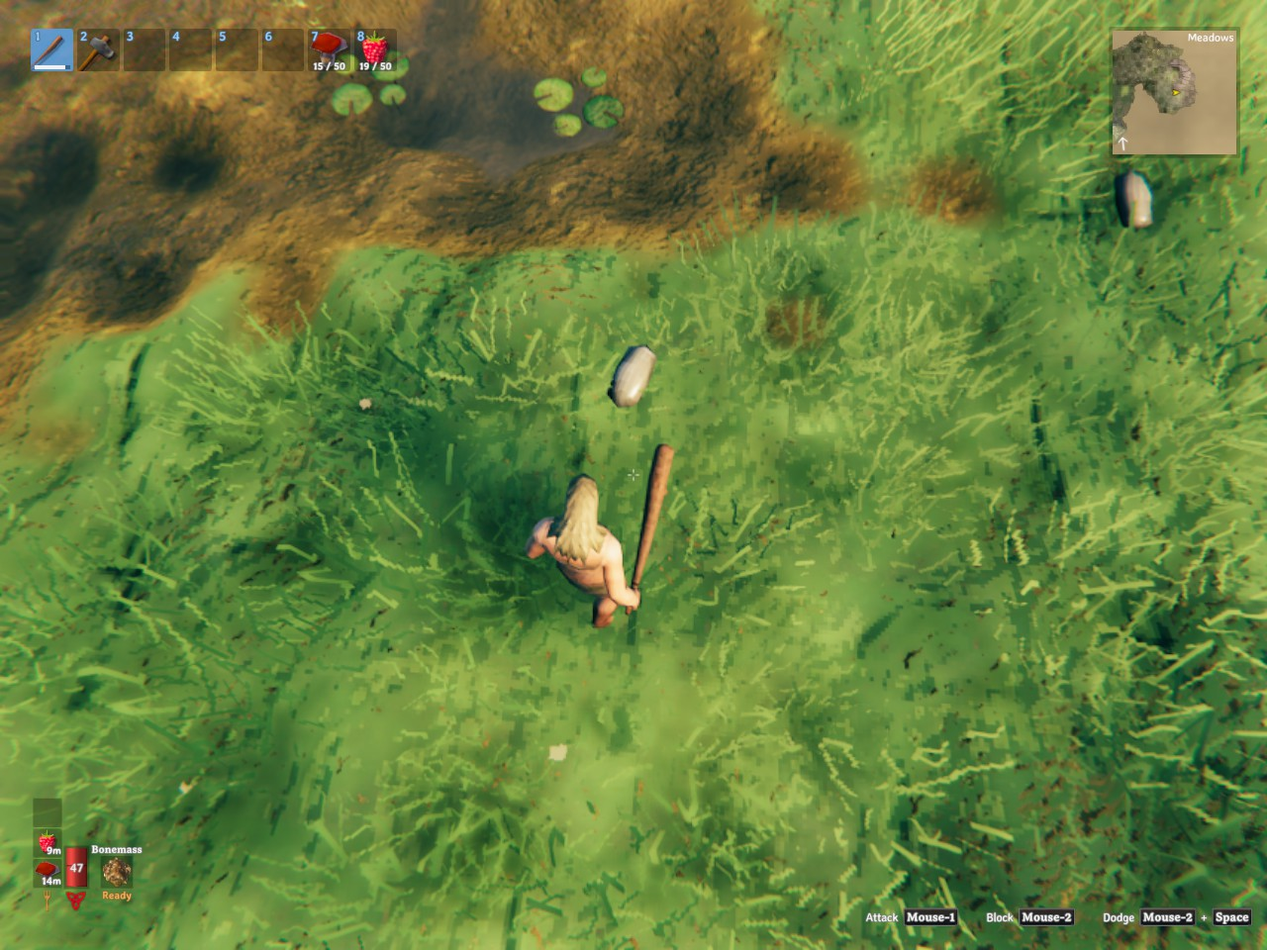Flint: (608, 345, 656, 407), (1115, 170, 1152, 229)
